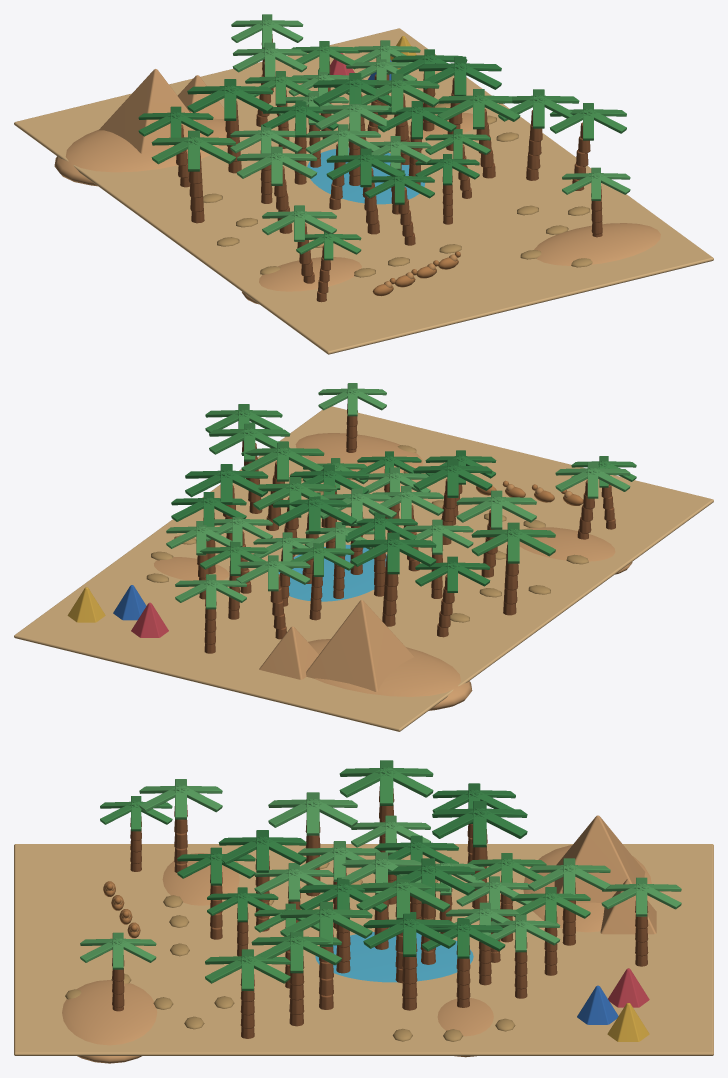
Rendered from centre.glb.
The picture shows the model from 3 angles, top to bottom: view 1: azimuth 30°, elevation 25°; view 2: azimuth 150°, elevation 25°; view 3: azimuth 270°, elevation 25°; orthographic projection. The views are drawn at different scales.
Parts seen in each view (by area): view 1: Cube; view 2: Cube; view 3: Cube.
Boxes of the visible parts, x1=… form: Cube: x1=14, y1=14, x2=713, y2=354; Cube: x1=14, y1=383, x2=713, y2=731; Cube: x1=14, y1=760, x2=713, y2=1063.
Size of the model in its own units: 5.2 by 1.3 by 6.88.
